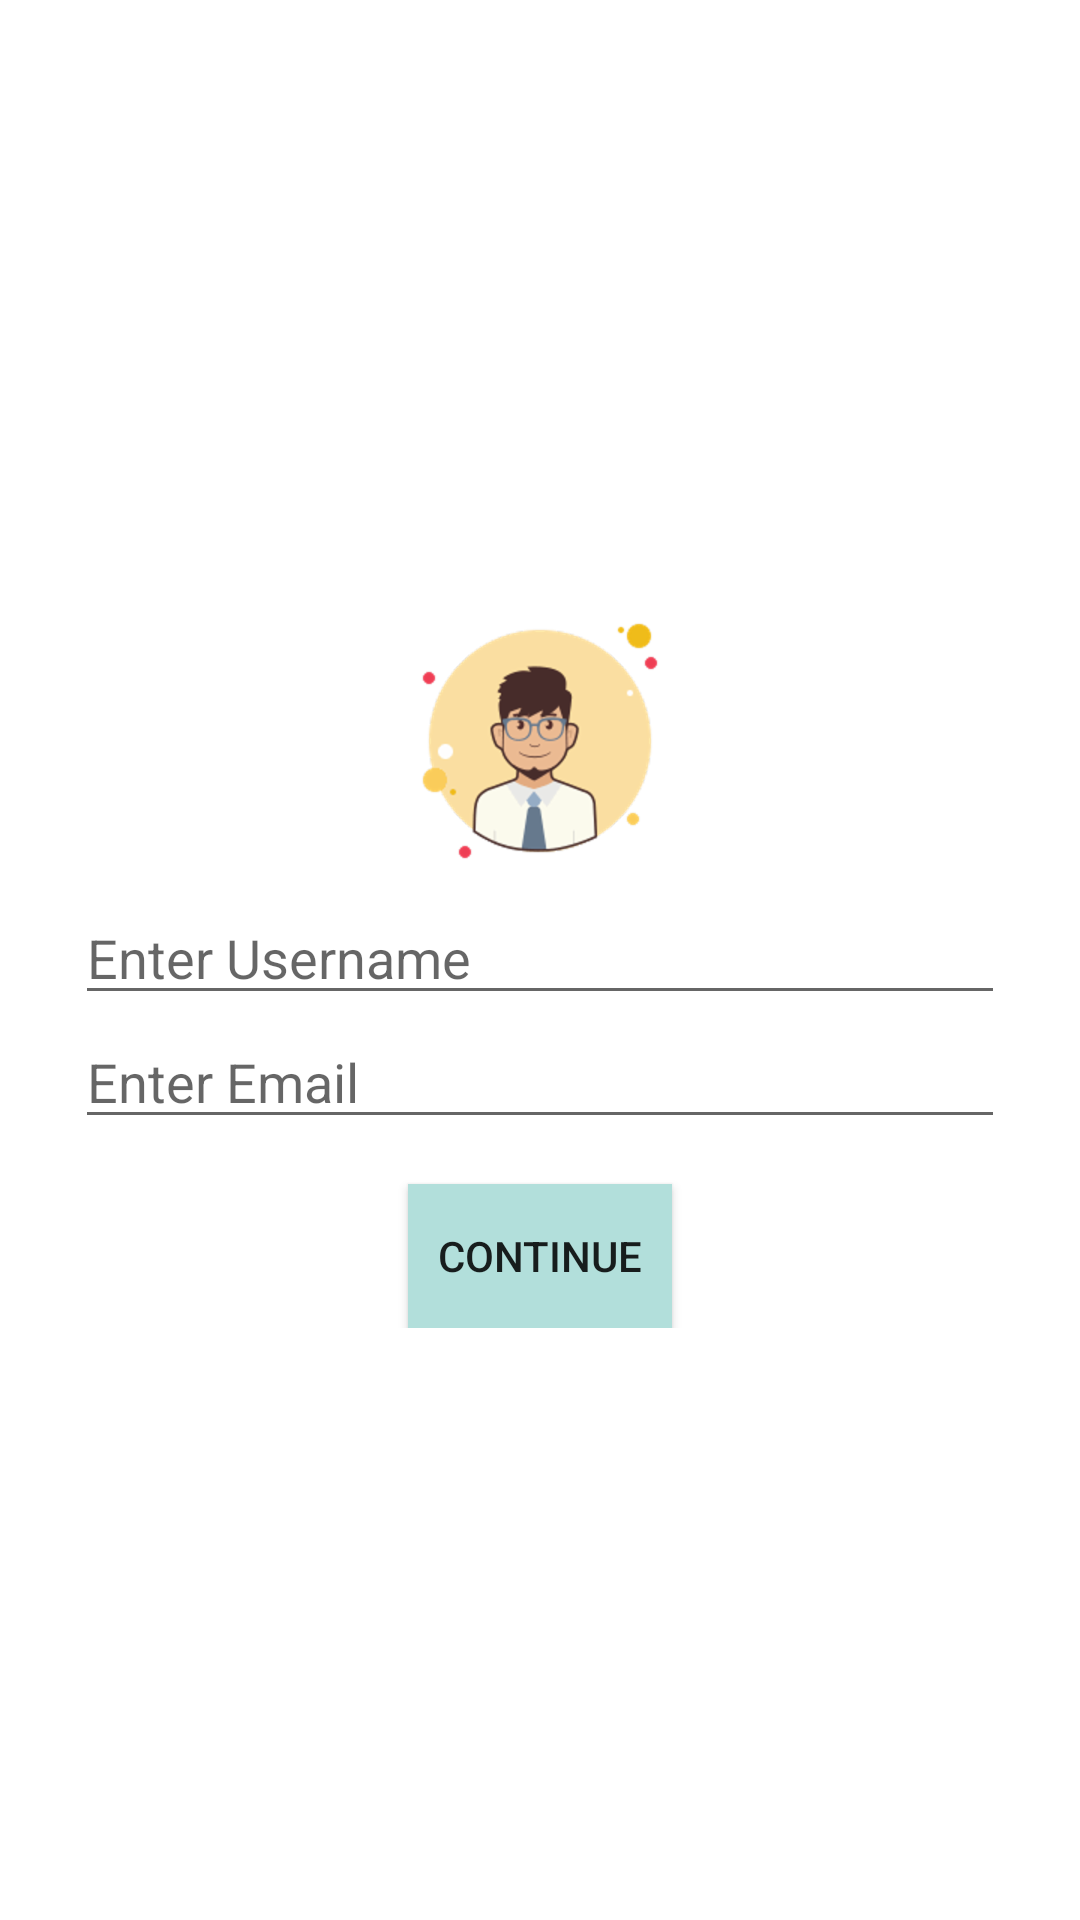

Where to tap for icons on this 1080*1920 app screen, as point (x, y):
administrator male: point (540, 741)
